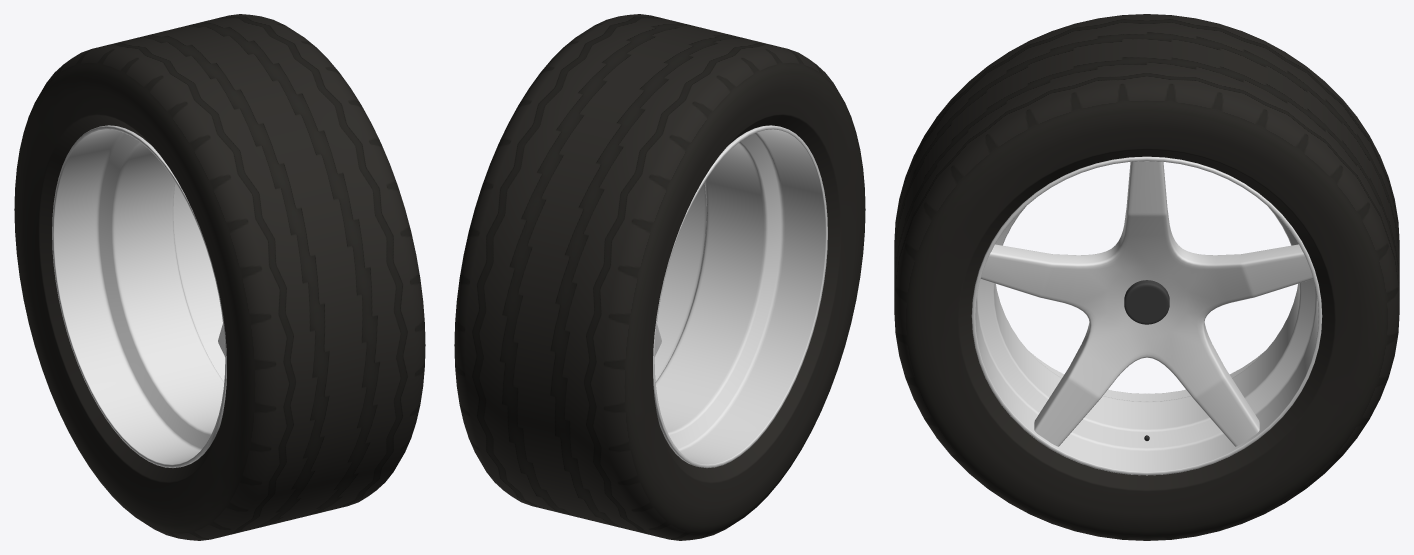
3 renders of one model, left to right at view 1: azimuth 30°, elevation 25°; view 2: azimuth 150°, elevation 25°; view 3: azimuth 270°, elevation 25°, orthographic.
Parts seen in each view (by area): view 1: LAEN_Tire, LAEN_Rim; view 2: LAEN_Tire, LAEN_Rim; view 3: LAEN_Tire, LAEN_Rim.
Boxes of the visible parts, bbox=[...] form: LAEN_Tire: bbox=[14, 14, 425, 540]; LAEN_Rim: bbox=[52, 125, 226, 467]; LAEN_Tire: bbox=[454, 14, 865, 540]; LAEN_Rim: bbox=[653, 125, 827, 467]; LAEN_Tire: bbox=[894, 14, 1399, 540]; LAEN_Rim: bbox=[971, 156, 1322, 475].
Bounding box in the file's own units: 1.18 × 2.87 × 2.87.
2 materials, 2 textured.
